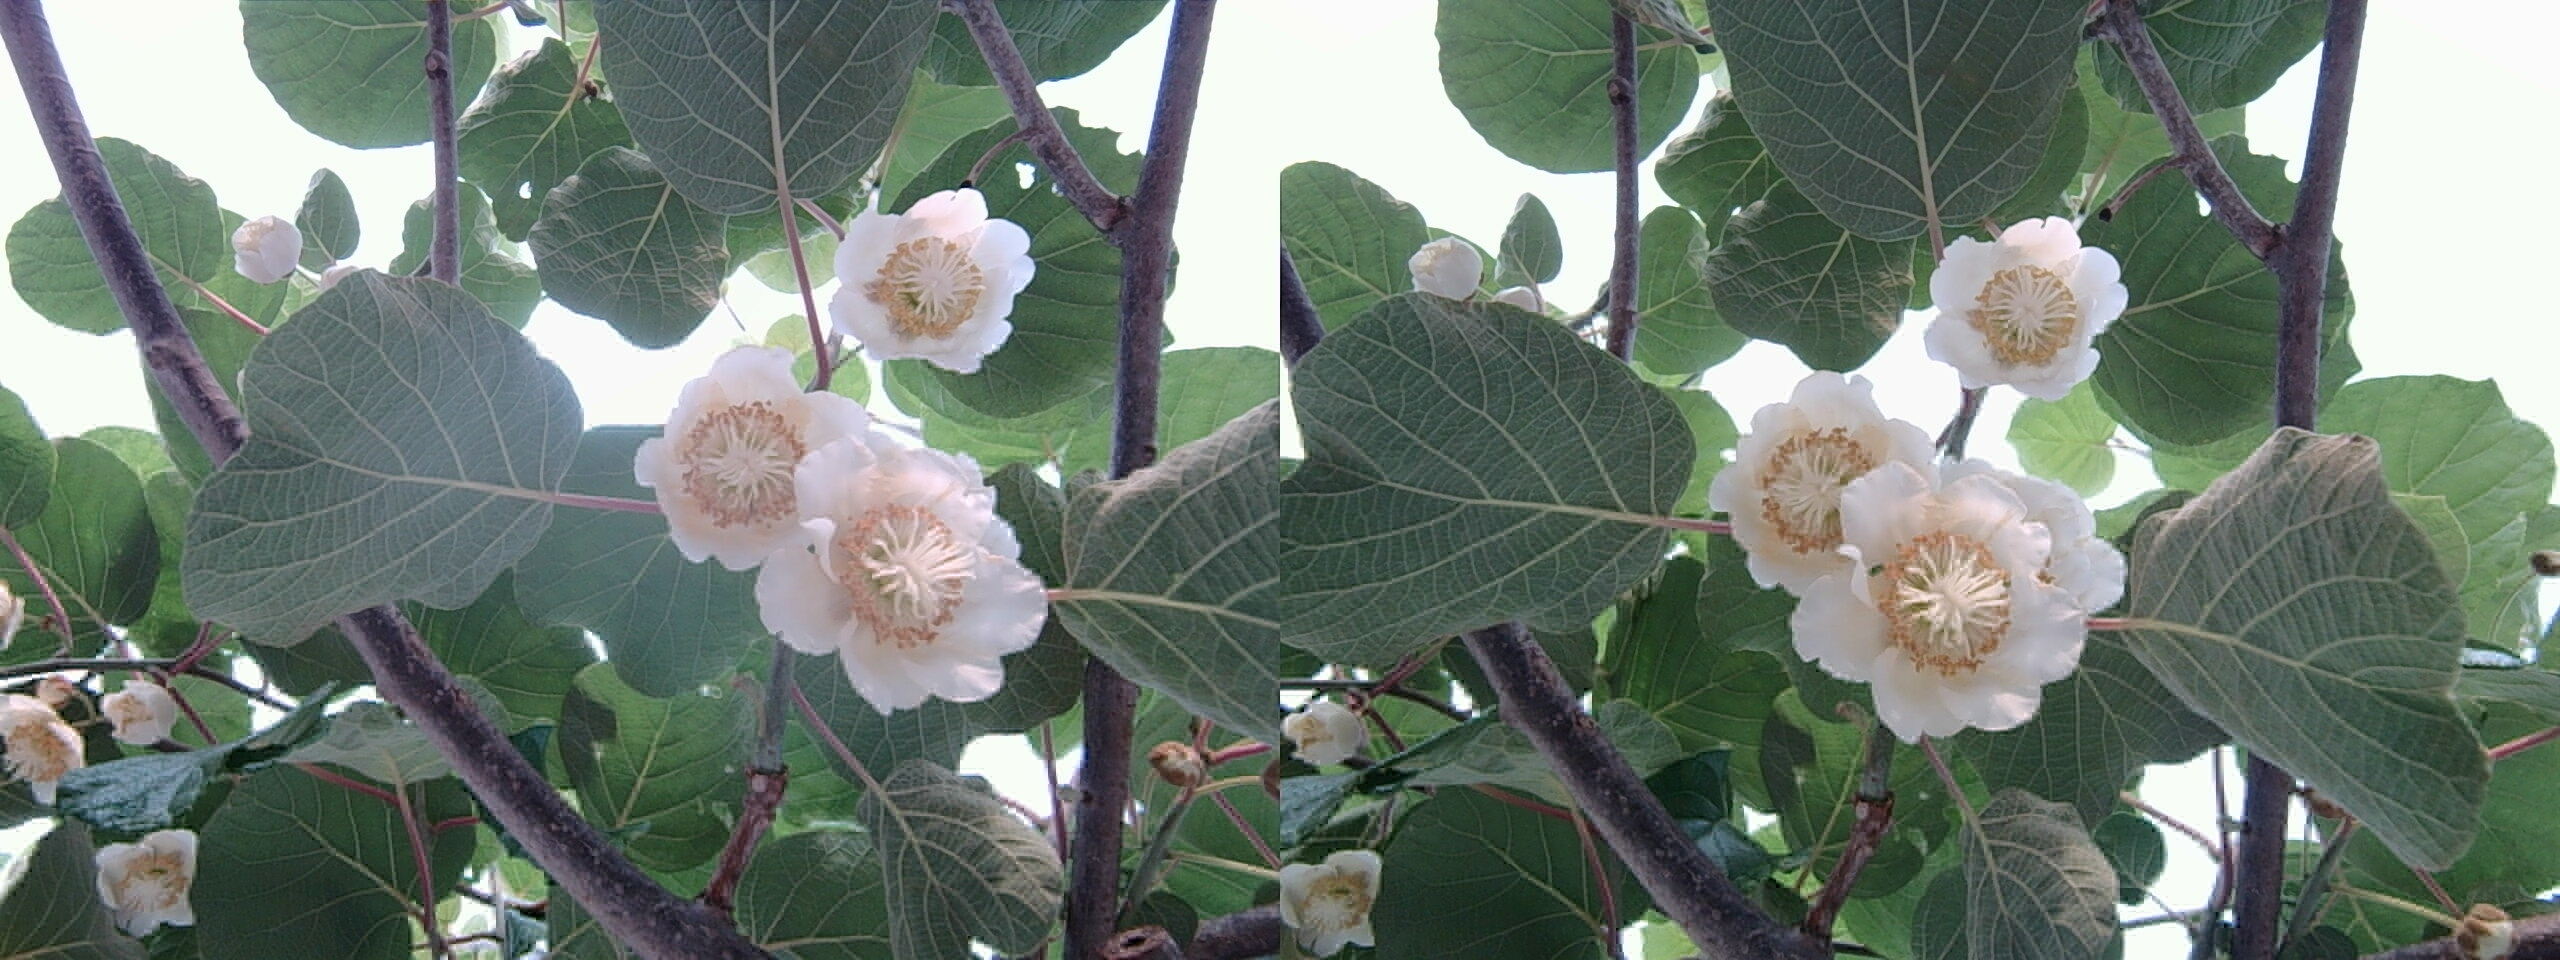flower: (1796, 457, 2108, 736), (759, 426, 1047, 709), (638, 348, 873, 562), (1711, 377, 1927, 588), (1912, 204, 2127, 405), (828, 181, 1032, 374), (0, 682, 100, 815), (93, 828, 193, 927)
